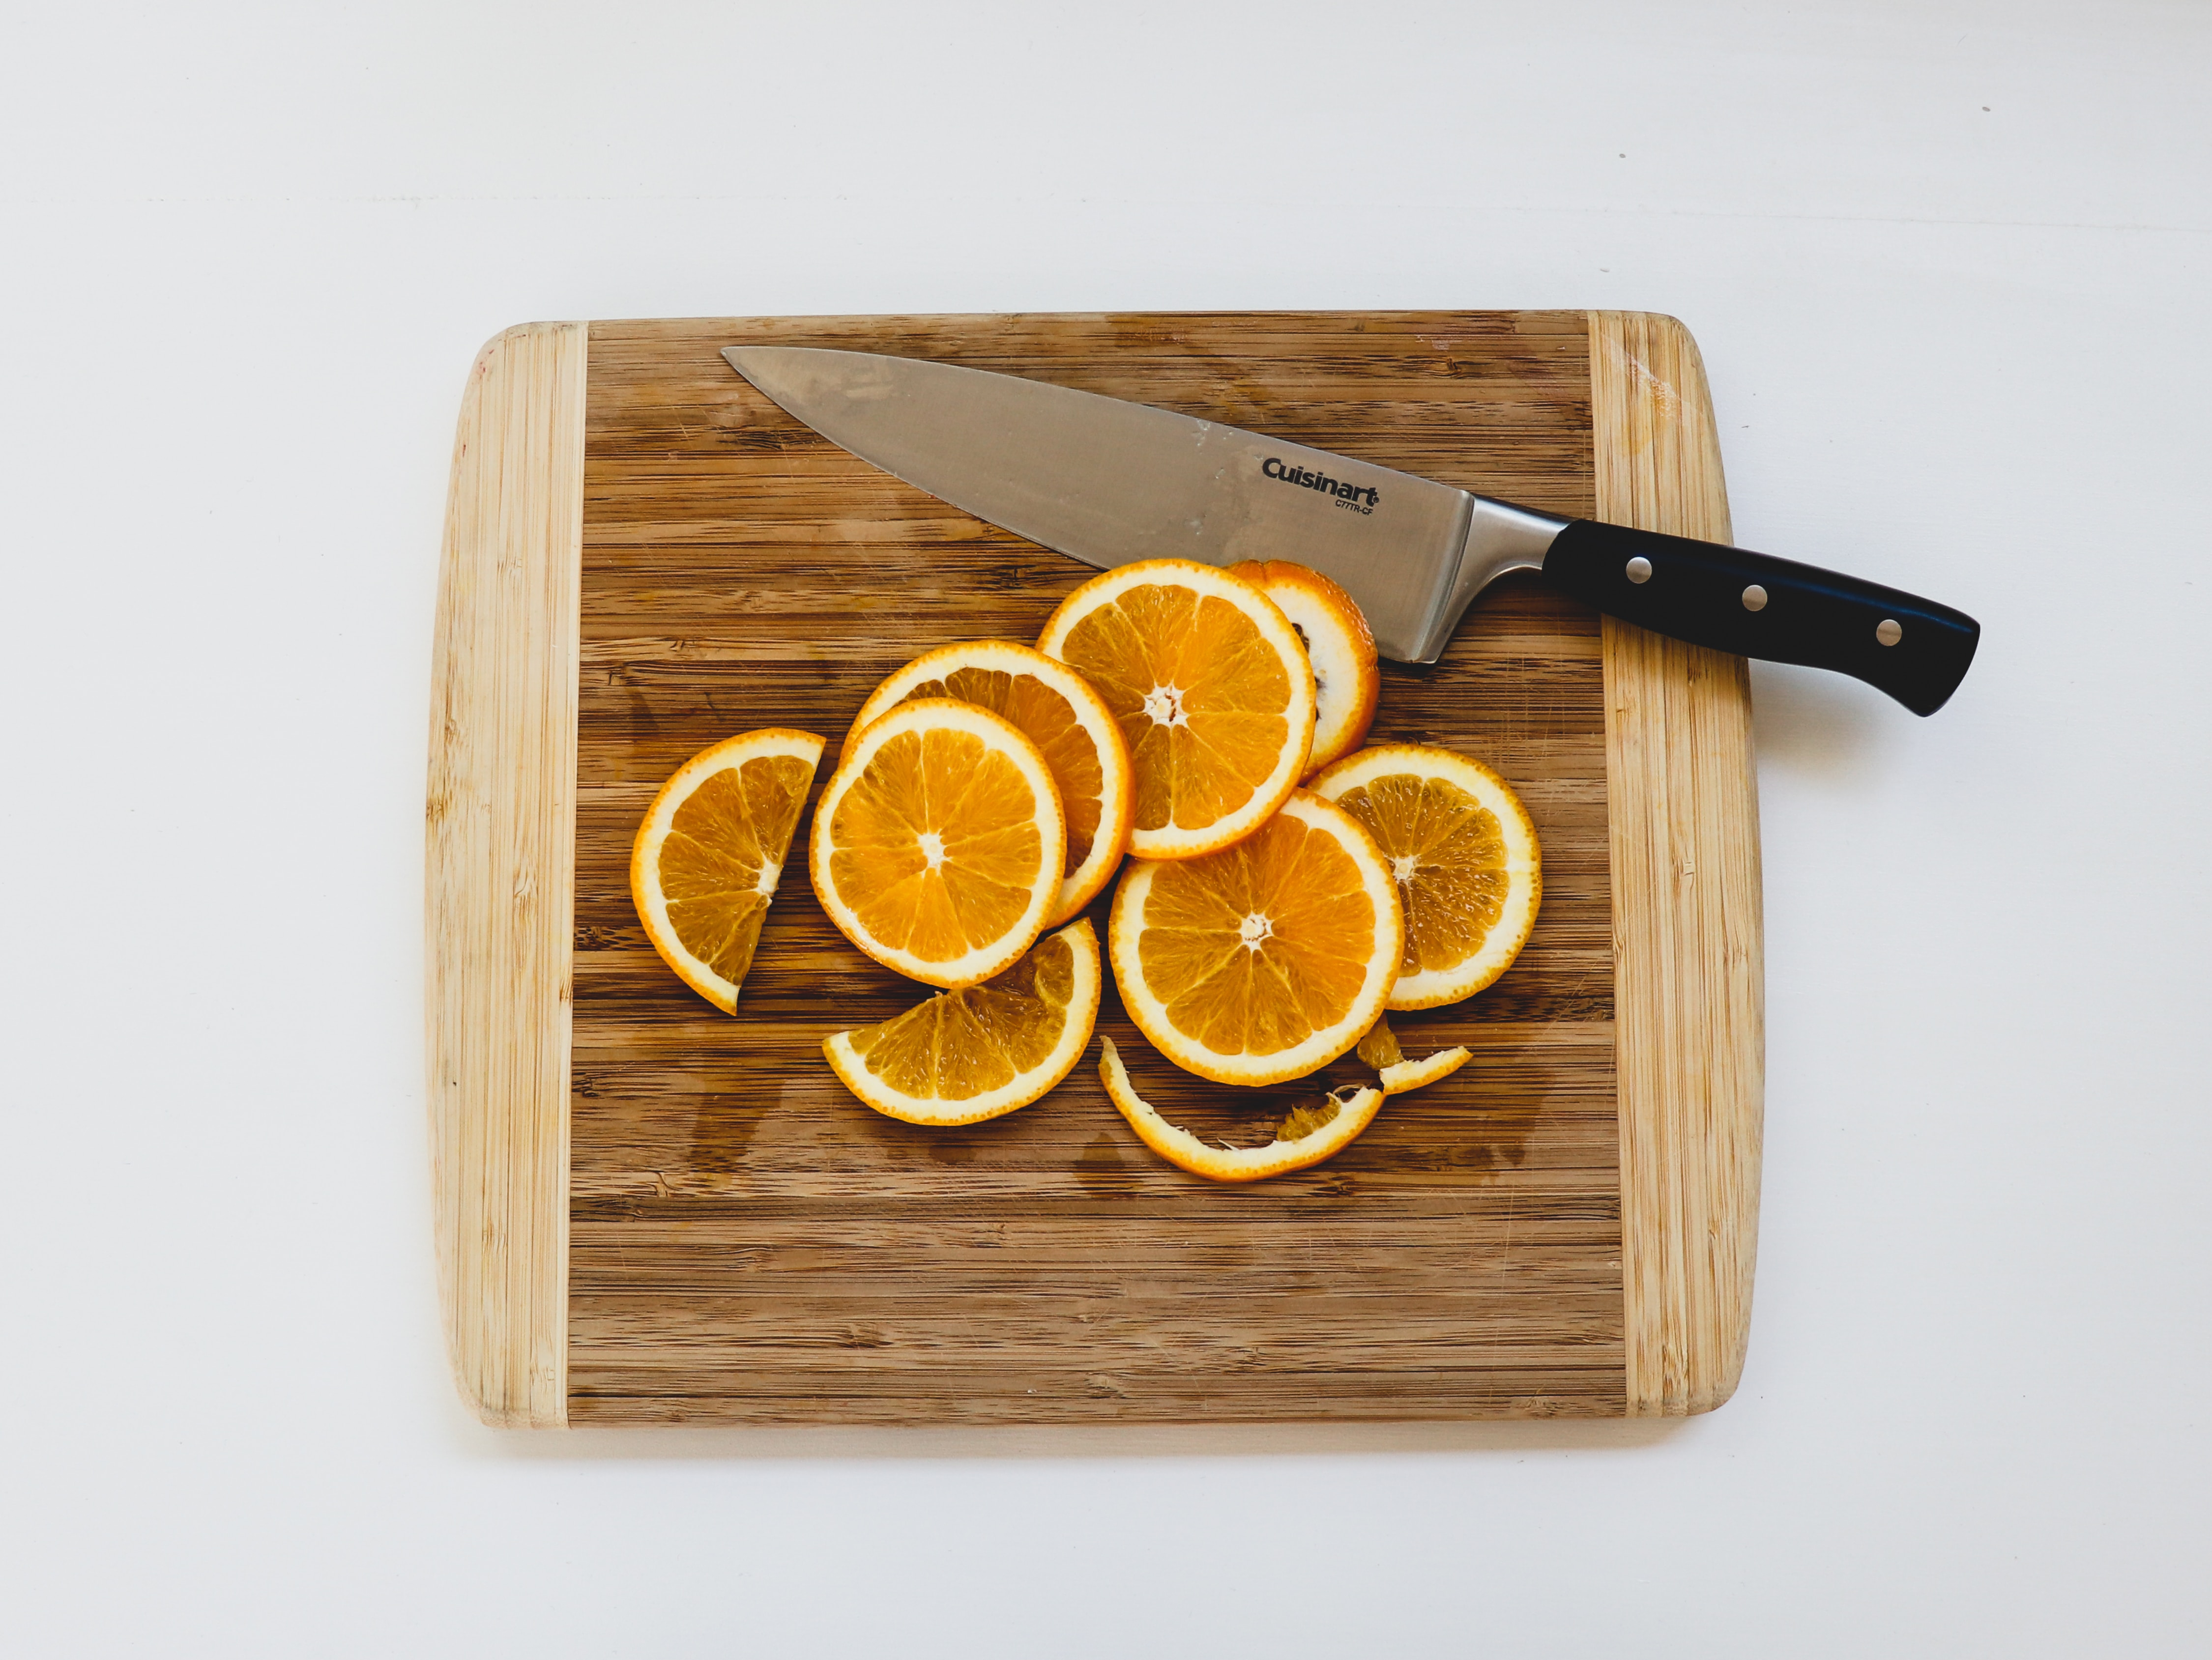knife: (686, 321, 2020, 774)
